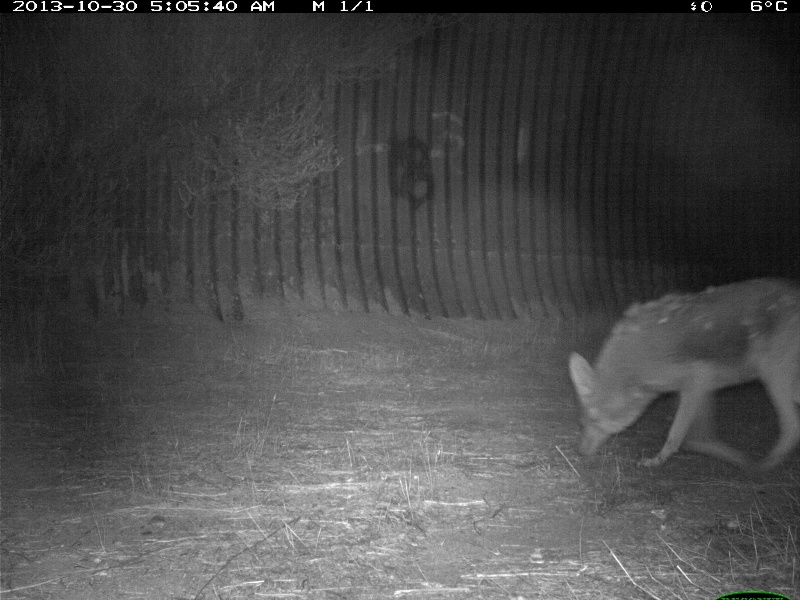coyote: (567, 273, 800, 473)
